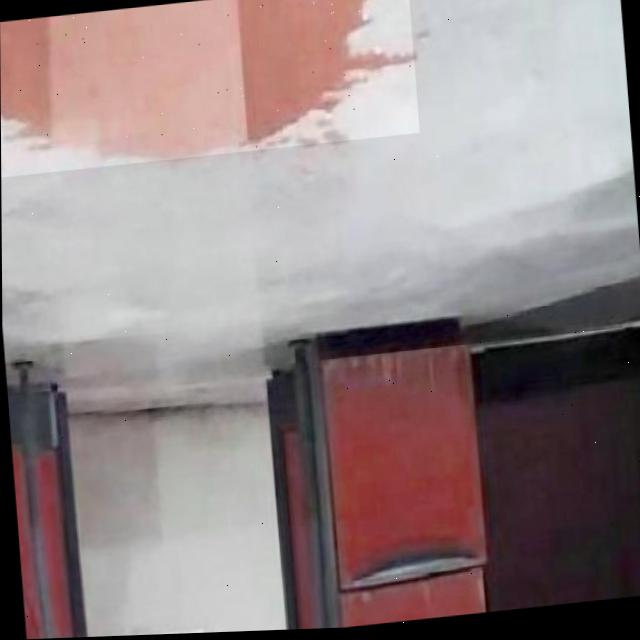spillage: (0, 0, 413, 160)
